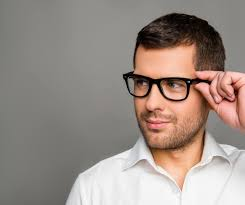Glasses: (117, 68, 201, 100)
